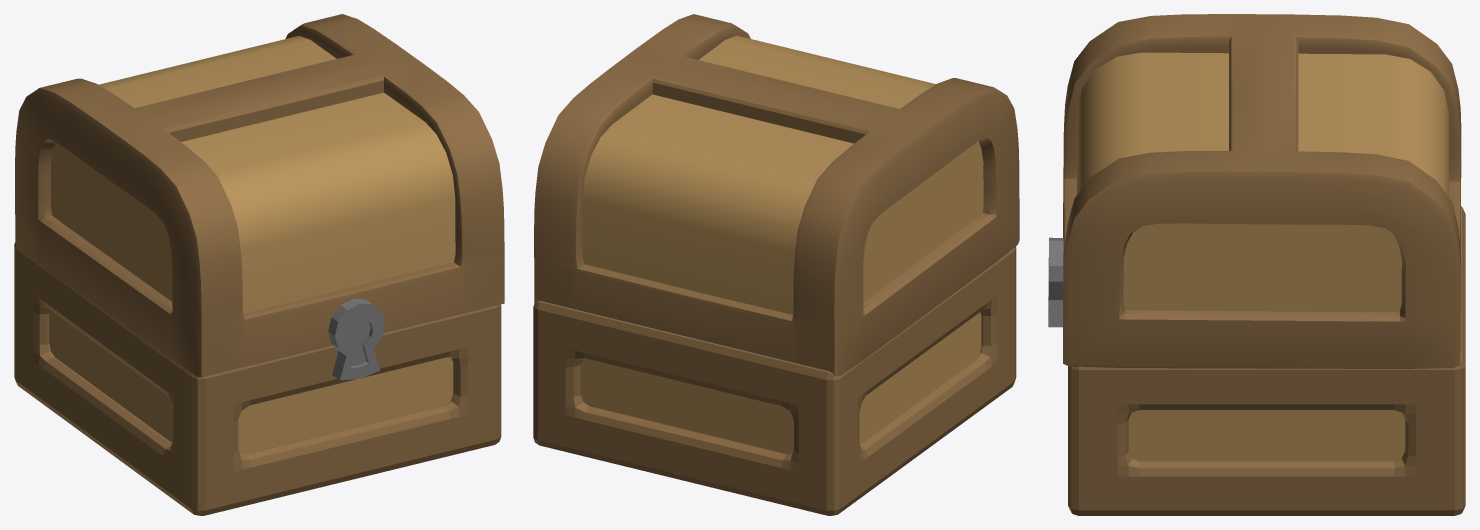
The model's file is Chest_Separated.glb.
The picture shows the model from 3 angles, left to right: view 1: azimuth 30°, elevation 25°; view 2: azimuth 150°, elevation 25°; view 3: azimuth 270°, elevation 25°; orthographic projection. The views are drawn at different scales.
Visible parts, largest first — view 1: Chest_Lid, Chest_Base; view 2: Chest_Lid, Chest_Base; view 3: Chest_Lid, Chest_Base.
Boxes of the visible parts, x1,y1,x2,y2 form: Chest_Lid: [15, 14, 504, 380]; Chest_Base: [14, 242, 501, 515]; Chest_Lid: [534, 14, 1019, 376]; Chest_Base: [533, 246, 1016, 515]; Chest_Lid: [1048, 14, 1461, 368]; Chest_Base: [1068, 206, 1465, 515].
Bounding box in the file's own units: 1.84 × 1.85 × 2.02.
Materials: 1 (1 with a texture image).
